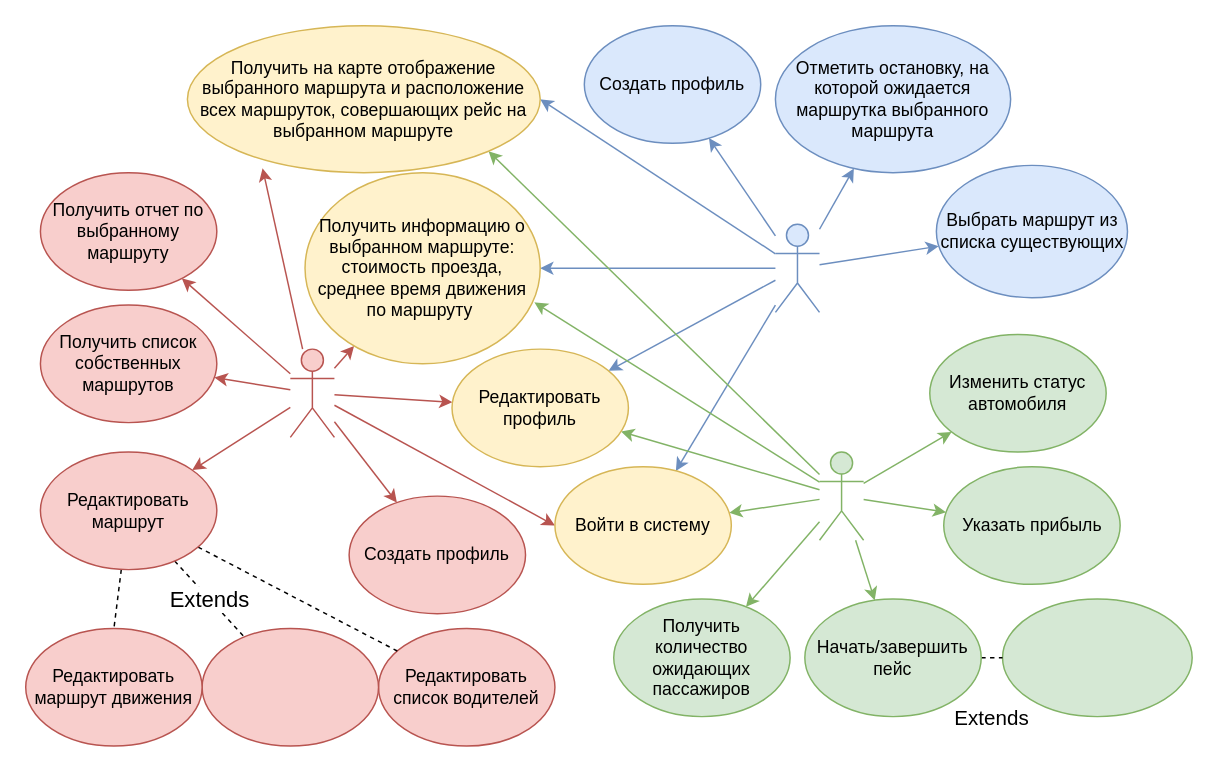
This 1219x772 diagram has some shape labels left out. The centre of each missing label's shape, as x and y in pixels:
Владелец: the point at 311,392
Водитель: the point at 841,495
Пассажир: the point at 797,267
Редактировать список автомобилей: the point at 290,686
Указать, что машина переполнена: the point at 1096,657
